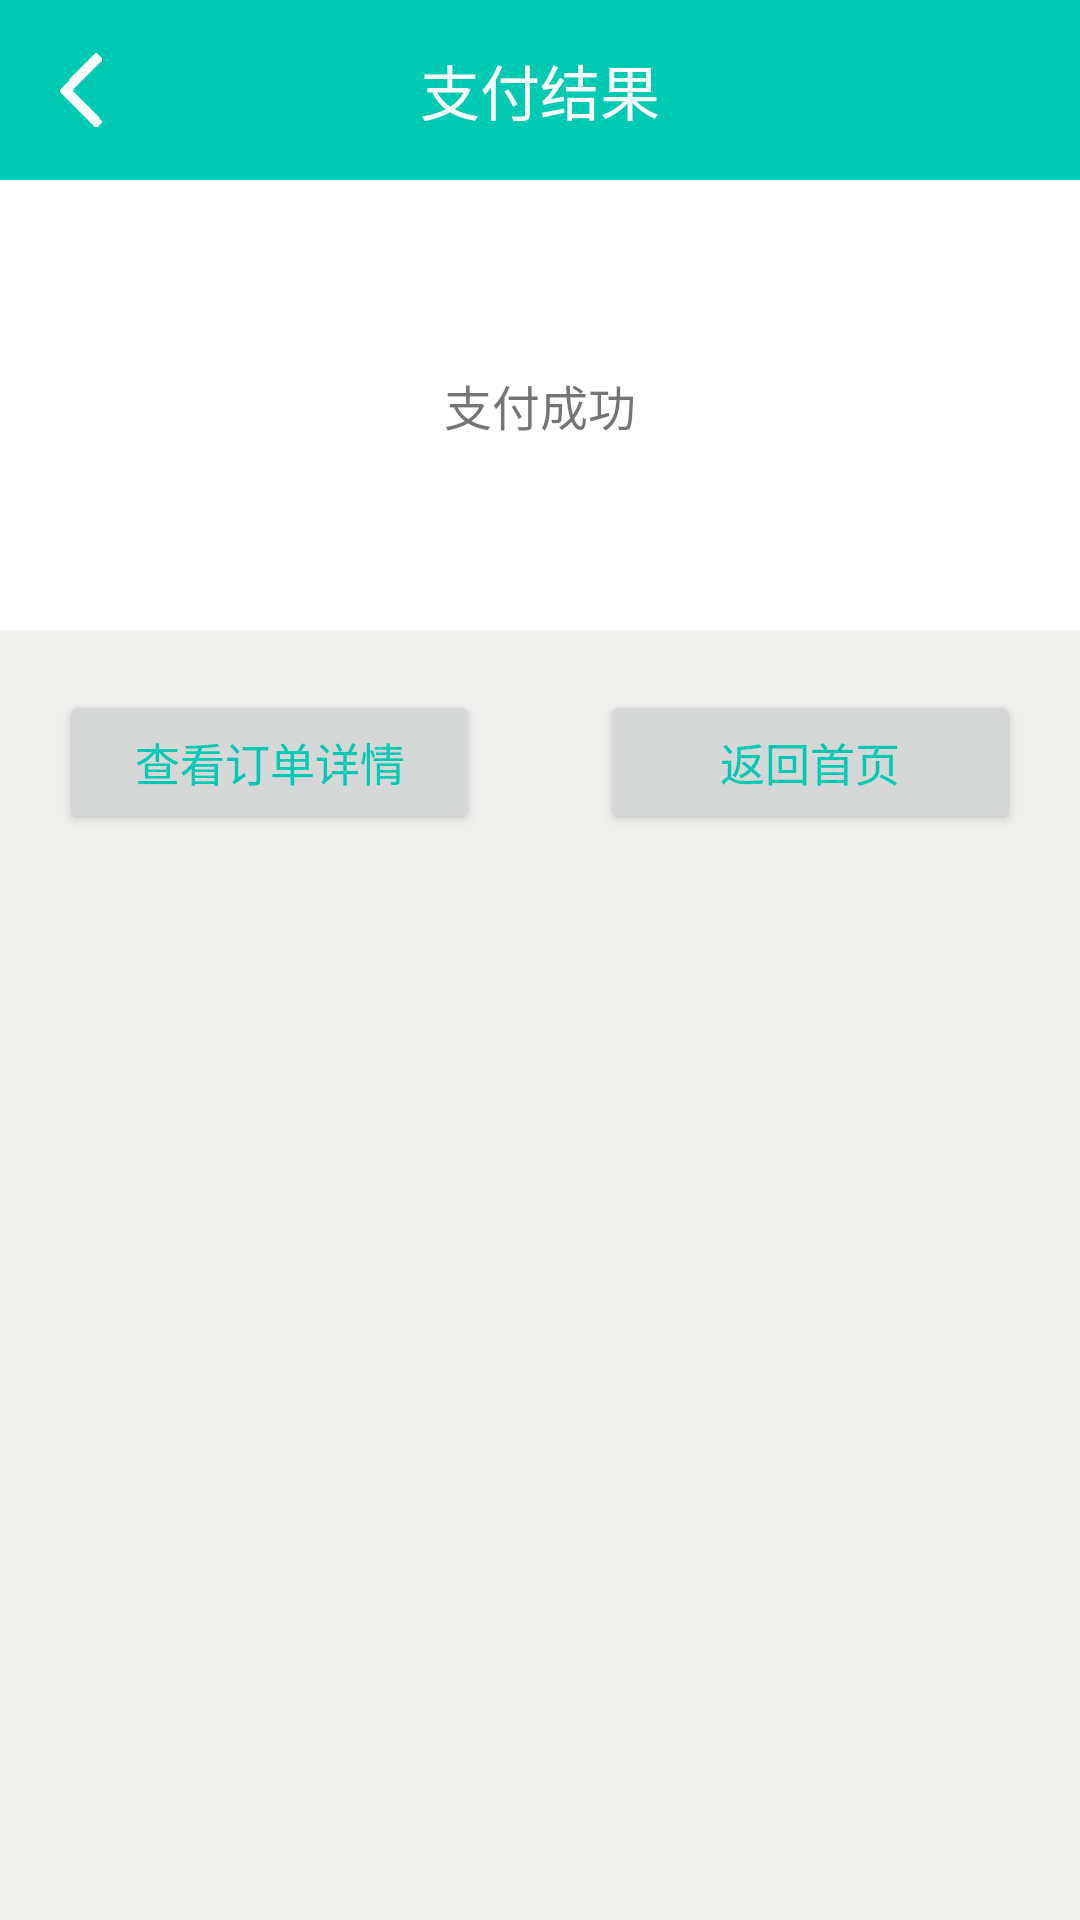

Named icons in this screenshot (1080*1920) and their centers, [x,y]:
back: [81,90]
